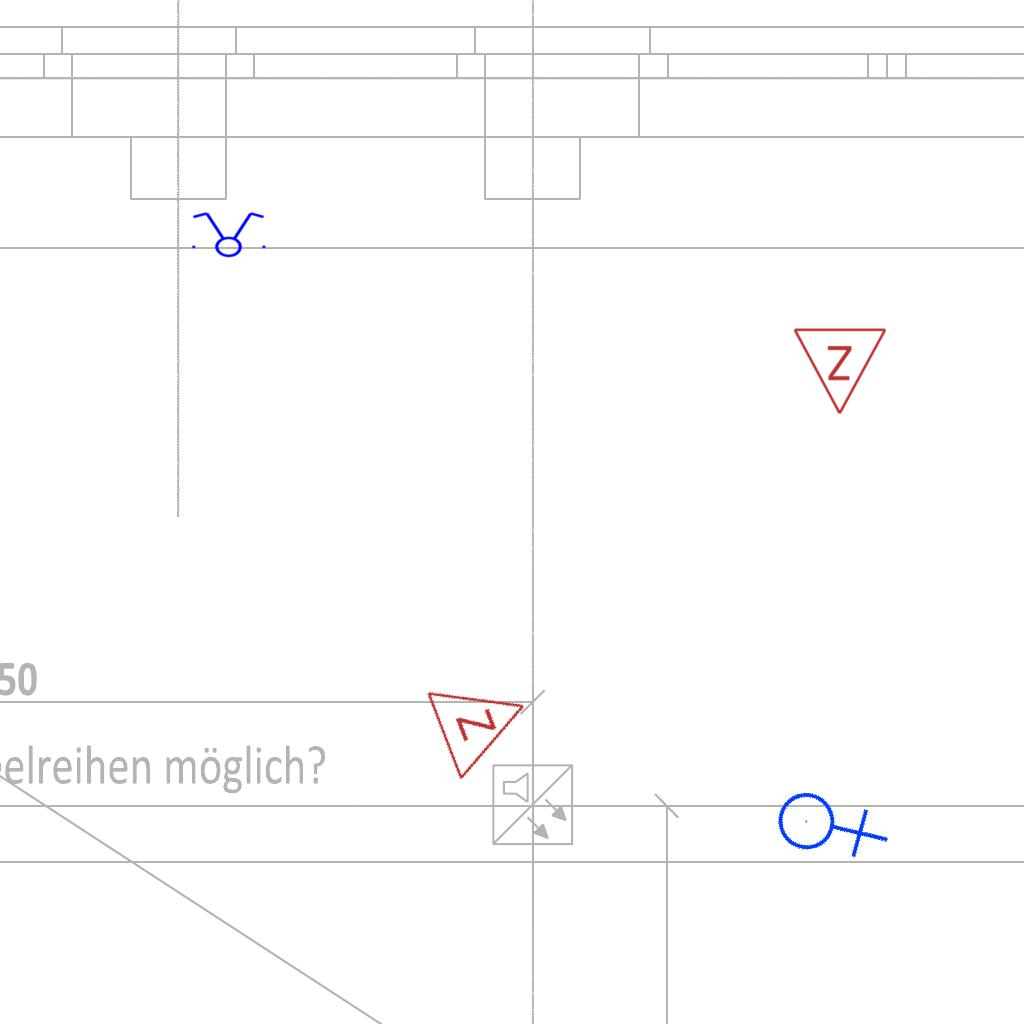Elektroanschluss_allgemein_230V_Geraeteanschlussdose_230V: (761, 754, 894, 890)
Serienschalter: (186, 210, 270, 258)
Zimmersignalleuchte: (418, 656, 548, 784), (792, 321, 890, 421)
